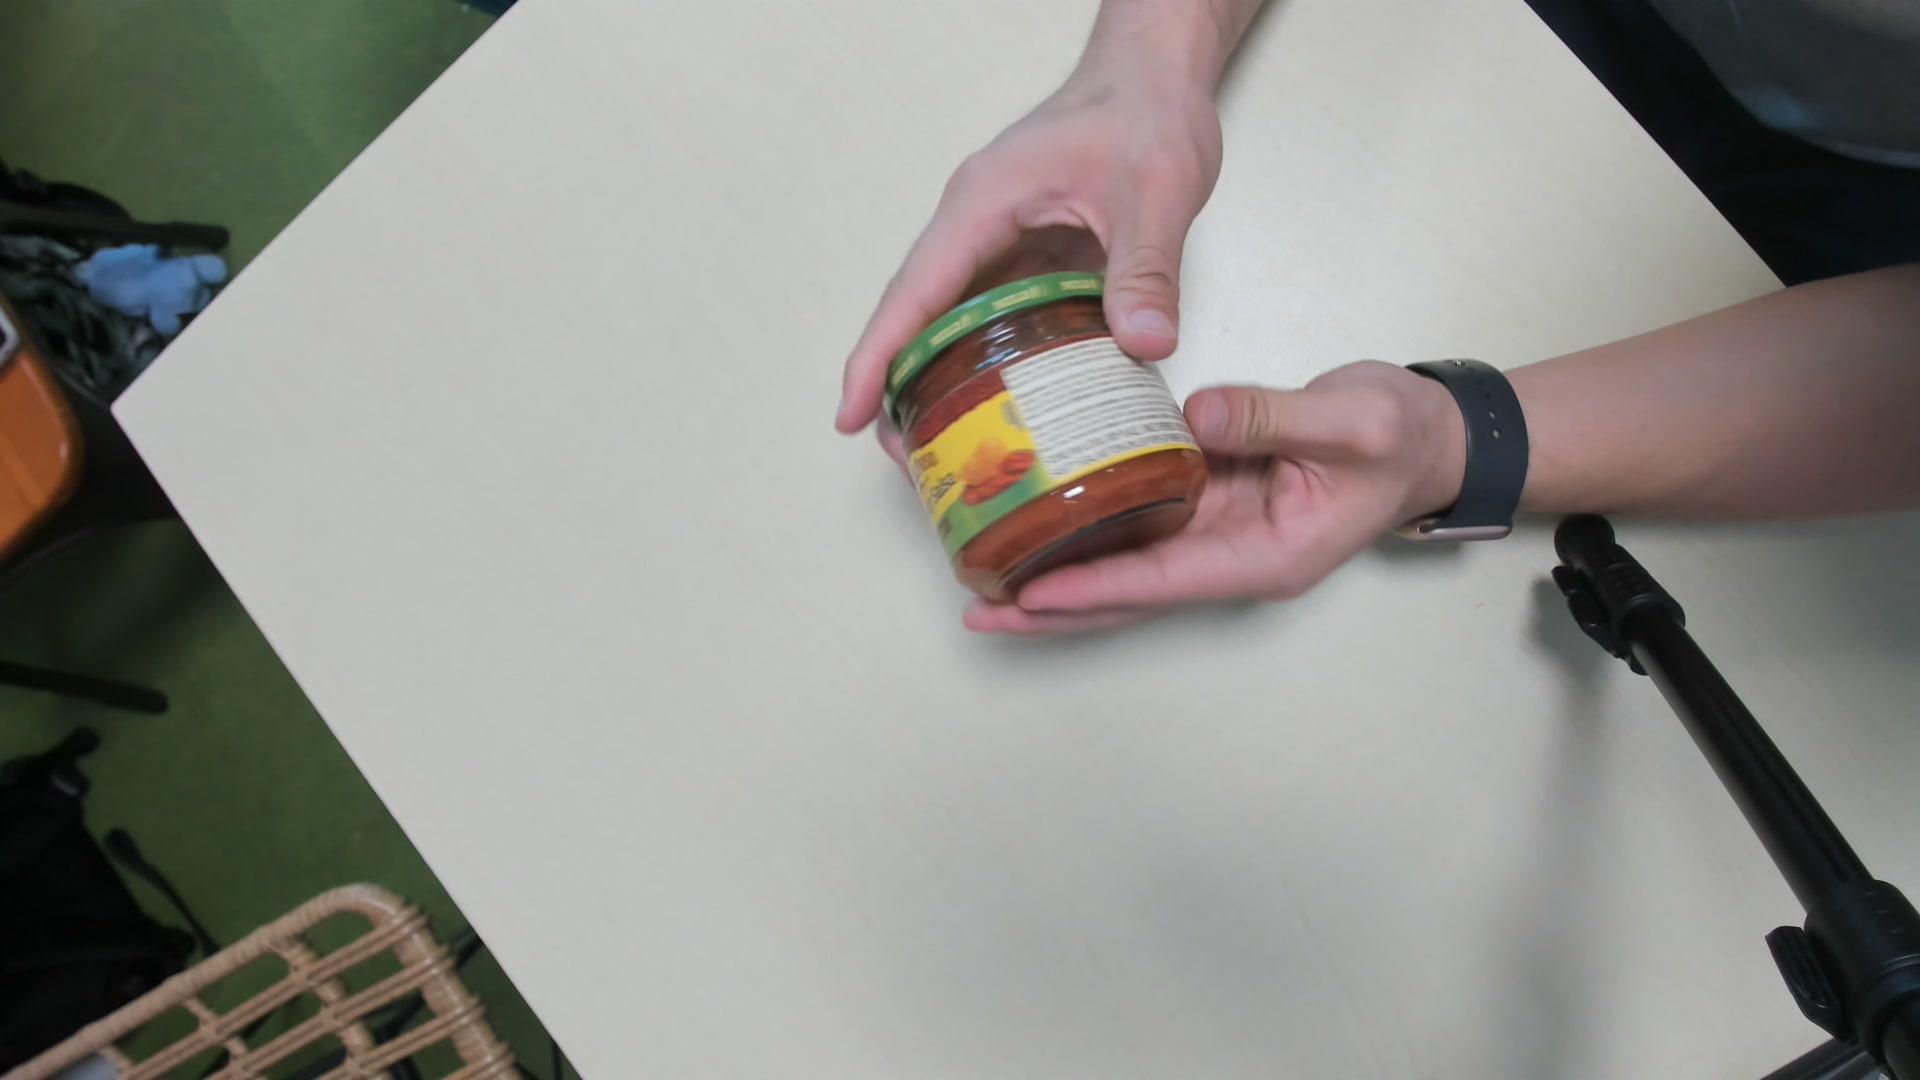OtherSauceDressing_300-399g_NonHalal_NonHealthy: (887, 270, 1216, 609)
